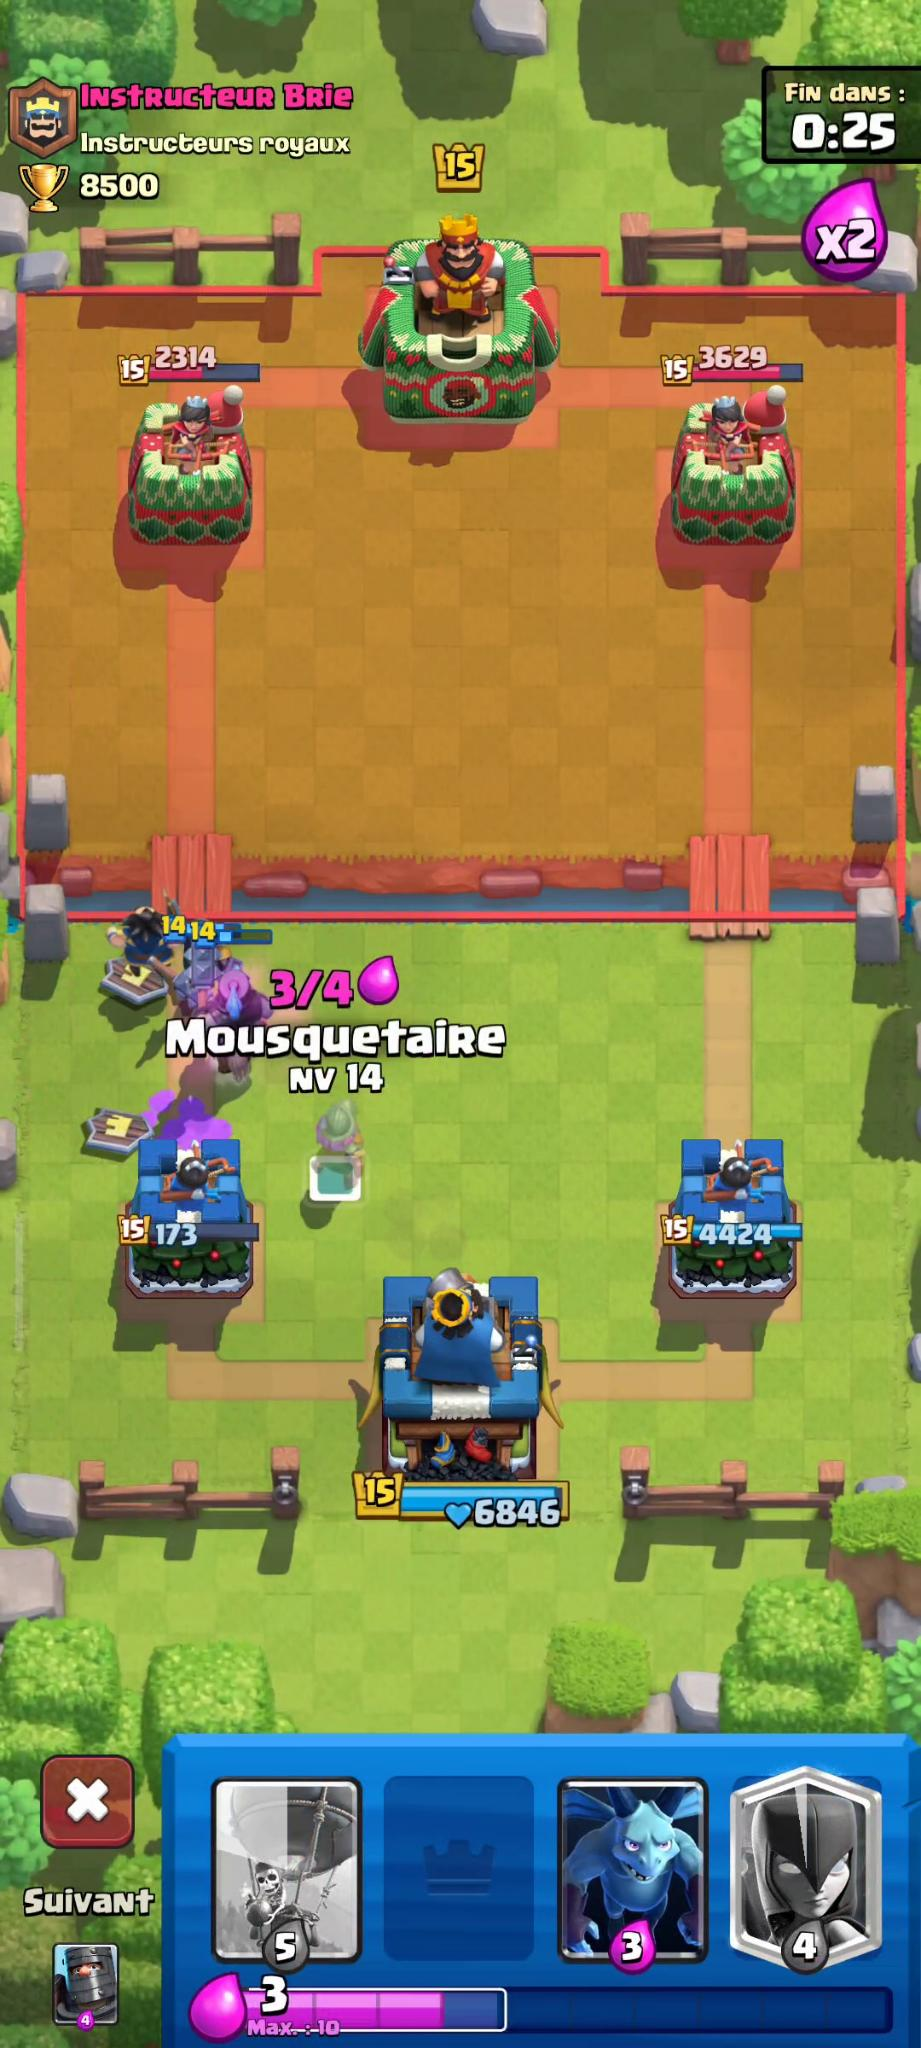mousquetaire: (304, 1097, 380, 1191)
